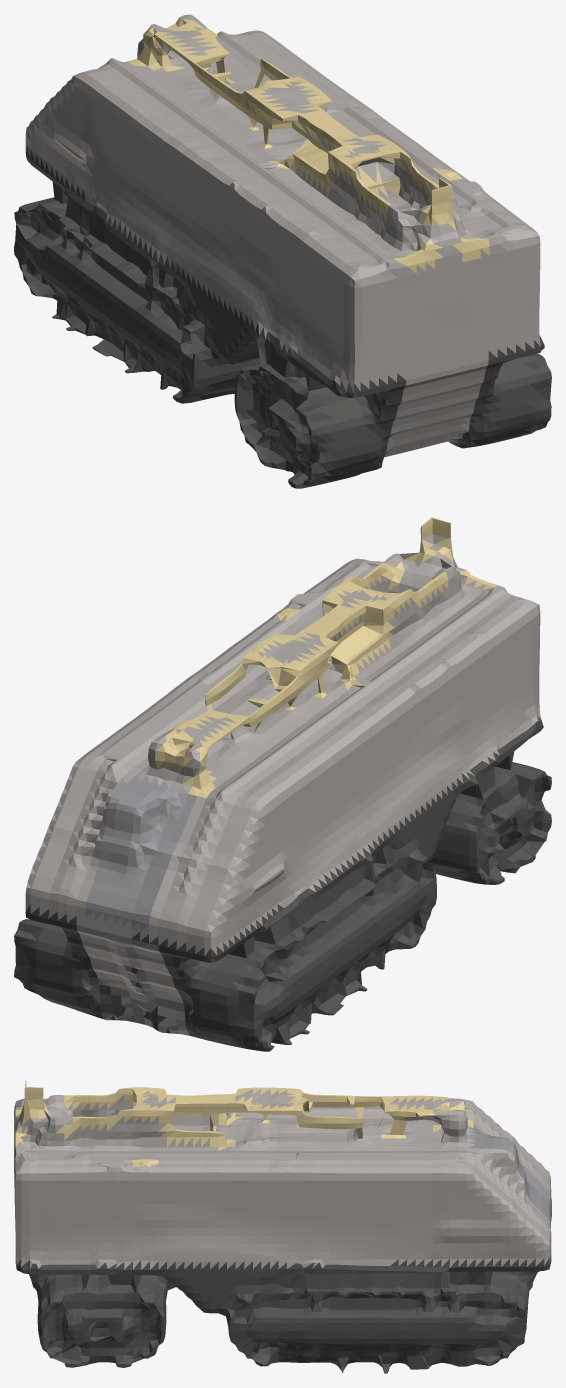
Rendered from unit_forge_crawler.glb.
The picture shows the model from 3 angles, top to bottom: view 1: azimuth 30°, elevation 25°; view 2: azimuth 150°, elevation 25°; view 3: azimuth 270°, elevation 25°; orthographic projection. The views are drawn at different scales.
Visible parts, largest first — view 1: Mesh_0.031; view 2: Mesh_0.031; view 3: Mesh_0.031.
Boxes of the visible parts, left/top/right/bottom form: Mesh_0.031: left=14, top=14, right=551, bottom=488; Mesh_0.031: left=14, top=517, right=551, bottom=1051; Mesh_0.031: left=14, top=1080, right=551, bottom=1373.
Size of the model in its own units: 1.88 by 2.2 by 4.4.
